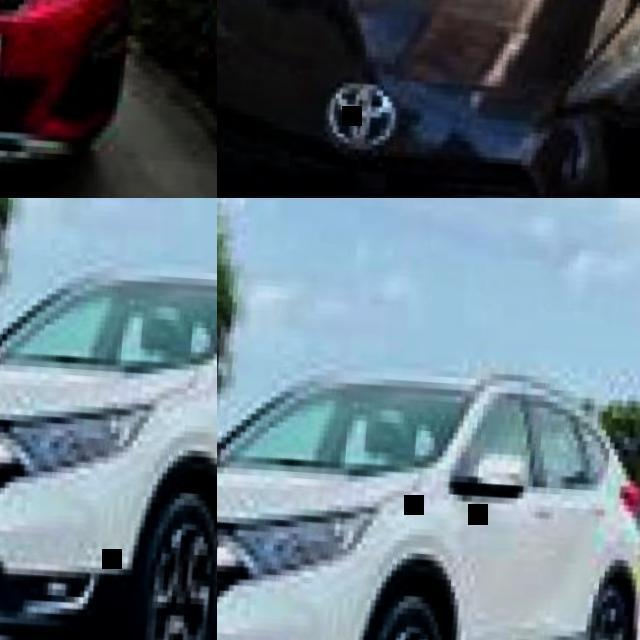car: (127, 0, 434, 162), (474, 0, 637, 188), (0, 0, 138, 167)
